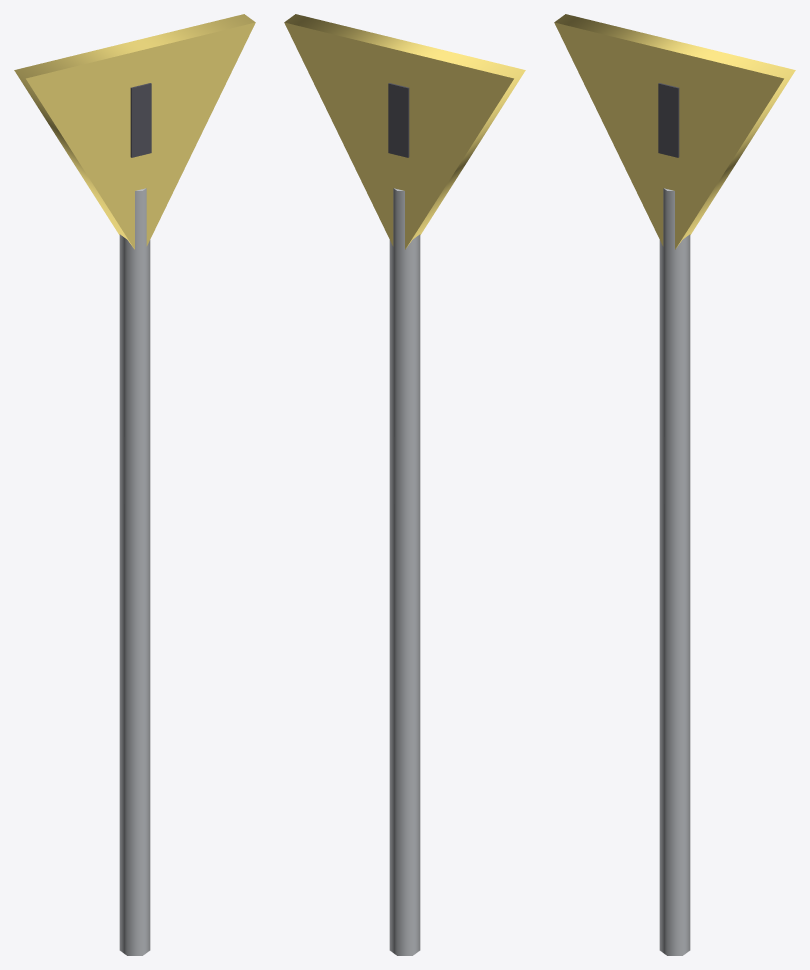
The model's file is rambu2.glb.
The picture shows the model from 3 angles, left to right: view 1: azimuth 30°, elevation 25°; view 2: azimuth 150°, elevation 25°; view 3: azimuth 330°, elevation 25°; orthographic projection.
Parts seen in each view (by area): view 1: rambu2; view 2: rambu2; view 3: rambu2.
Boxes of the visible parts, box(x1,y1,x2,y2) form: rambu2: box(14, 14, 255, 955); rambu2: box(284, 14, 525, 955); rambu2: box(554, 14, 795, 955).
Bounding box in the file's own units: 0.3464 × 1.3 × 0.04.
